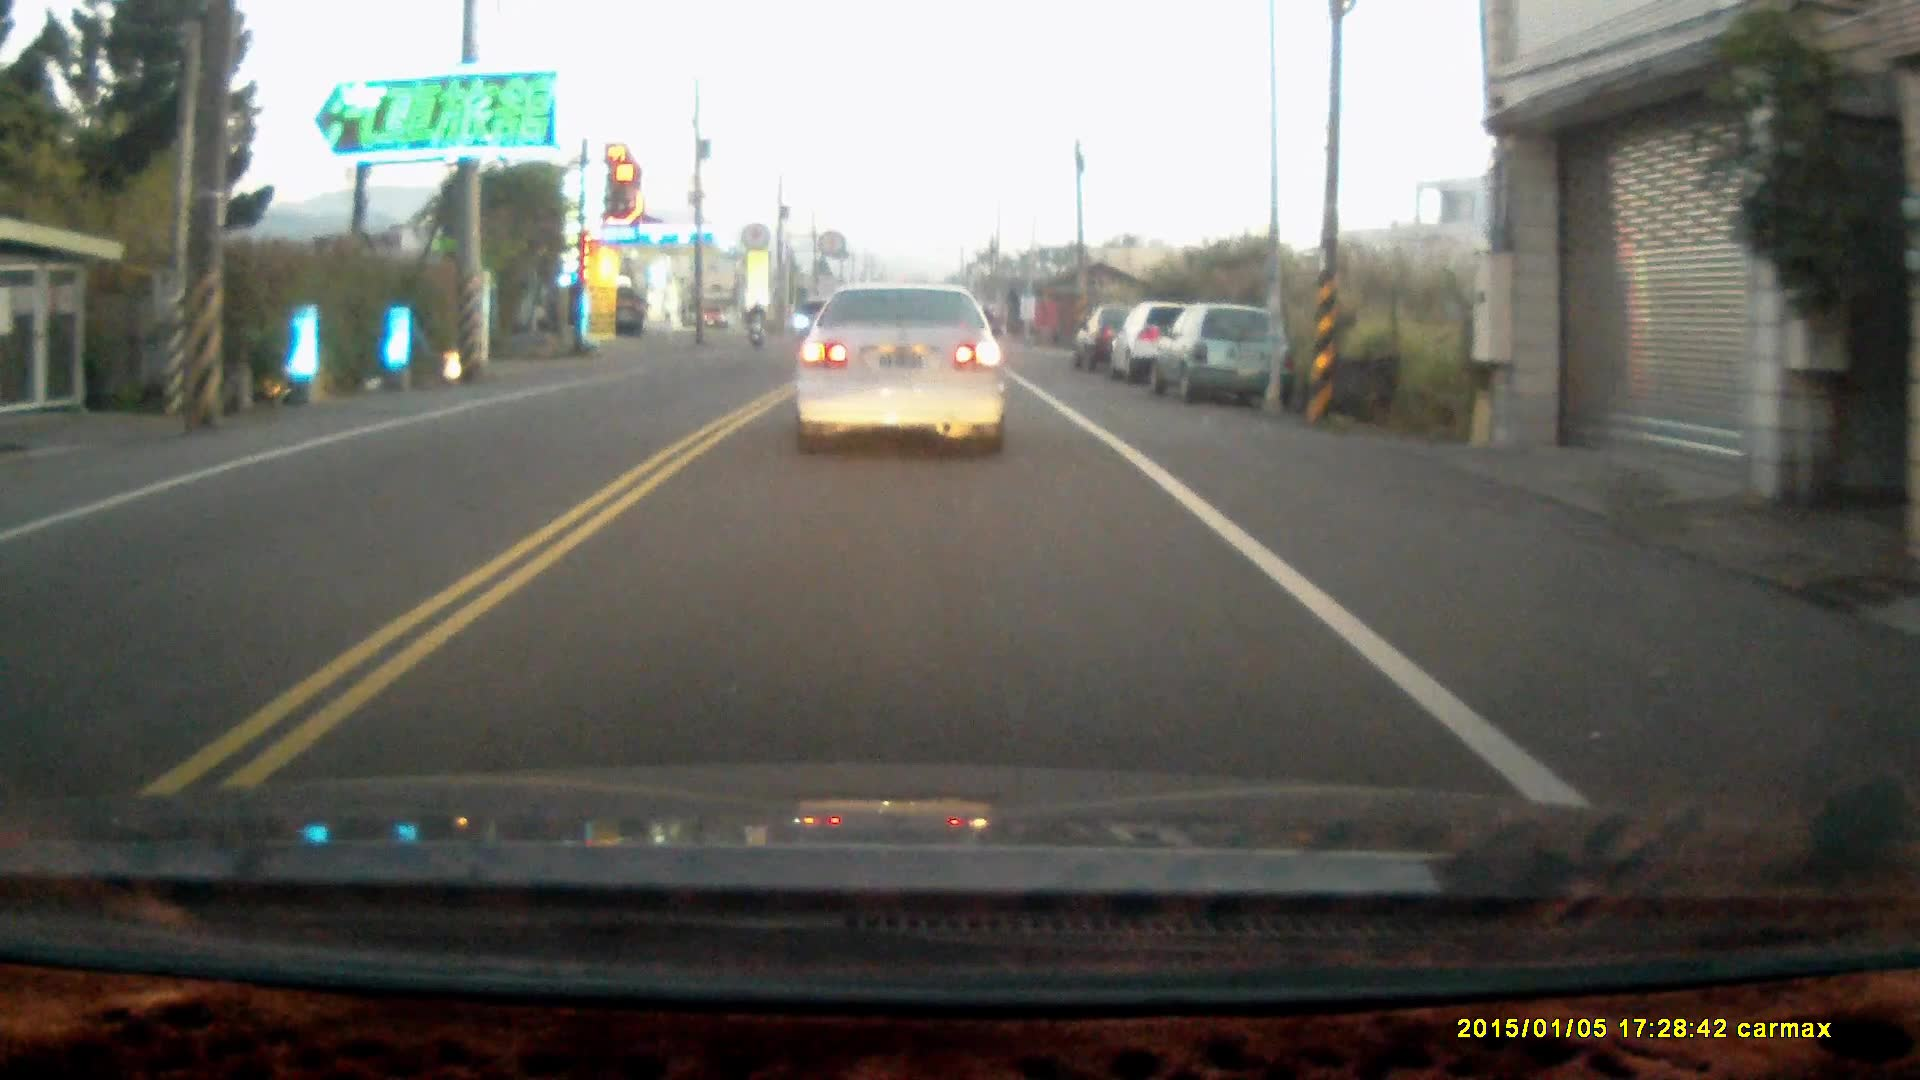rider: (745, 300, 766, 346)
vehicle: (790, 278, 1007, 462), (1161, 306, 1294, 404), (1117, 301, 1233, 385), (1077, 308, 1174, 375)
